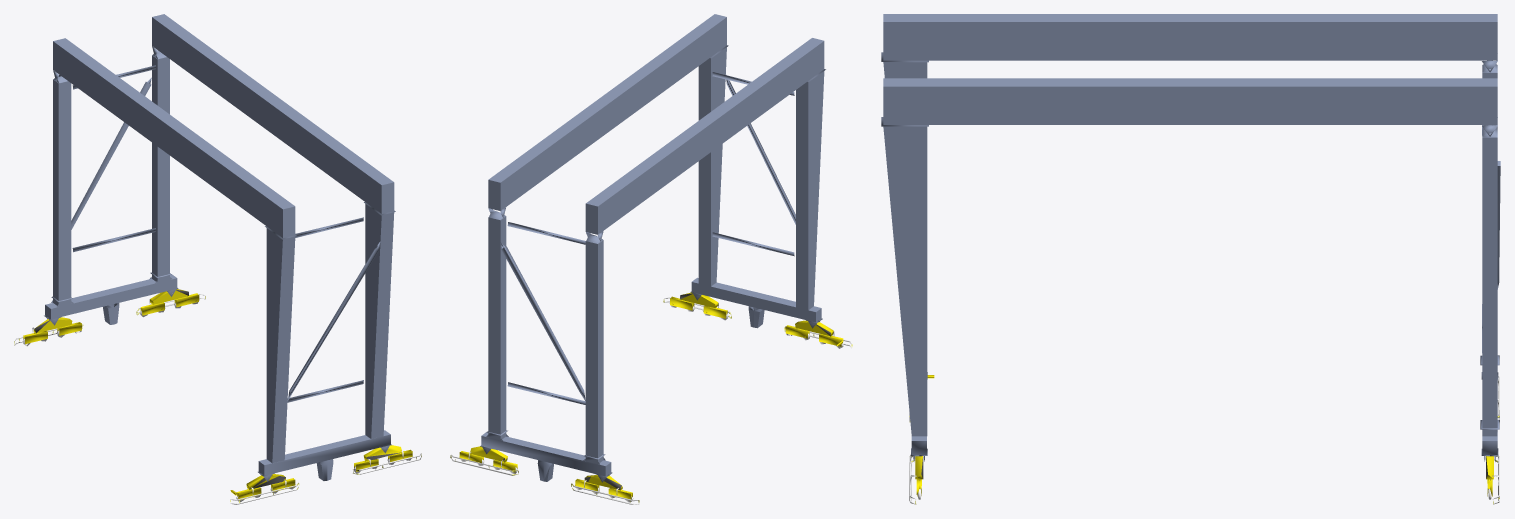
The model's file is reducedASC3.fbx.
3 views of the same model, side by side, from view 1: azimuth 30°, elevation 25°; view 2: azimuth 150°, elevation 25°; view 3: azimuth 270°, elevation 25° (orthographic). The views are drawn at different scales.
Parts seen in each view (by area): view 1: Mesh1 Leg_A1 Model.006; view 2: Mesh1 Leg_A1 Model.006; view 3: Mesh1 Leg_A1 Model.006.
Boxes of the visible parts, x1,y1,x2,y2 form: Mesh1 Leg_A1 Model.006: (14, 14, 421, 504); Mesh1 Leg_A1 Model.006: (450, 14, 852, 504); Mesh1 Leg_A1 Model.006: (881, 14, 1500, 504).
Bounding box in the file's own units: 1533303 × 2254619 × 3201850.
